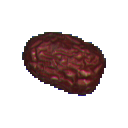gd: (10, 18, 113, 119)
